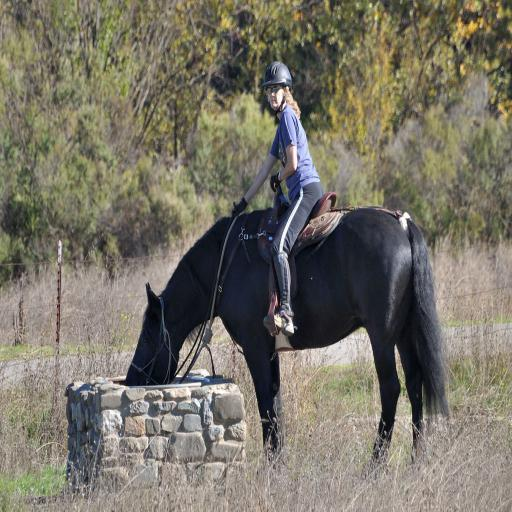Horse: (125, 207, 451, 474)
